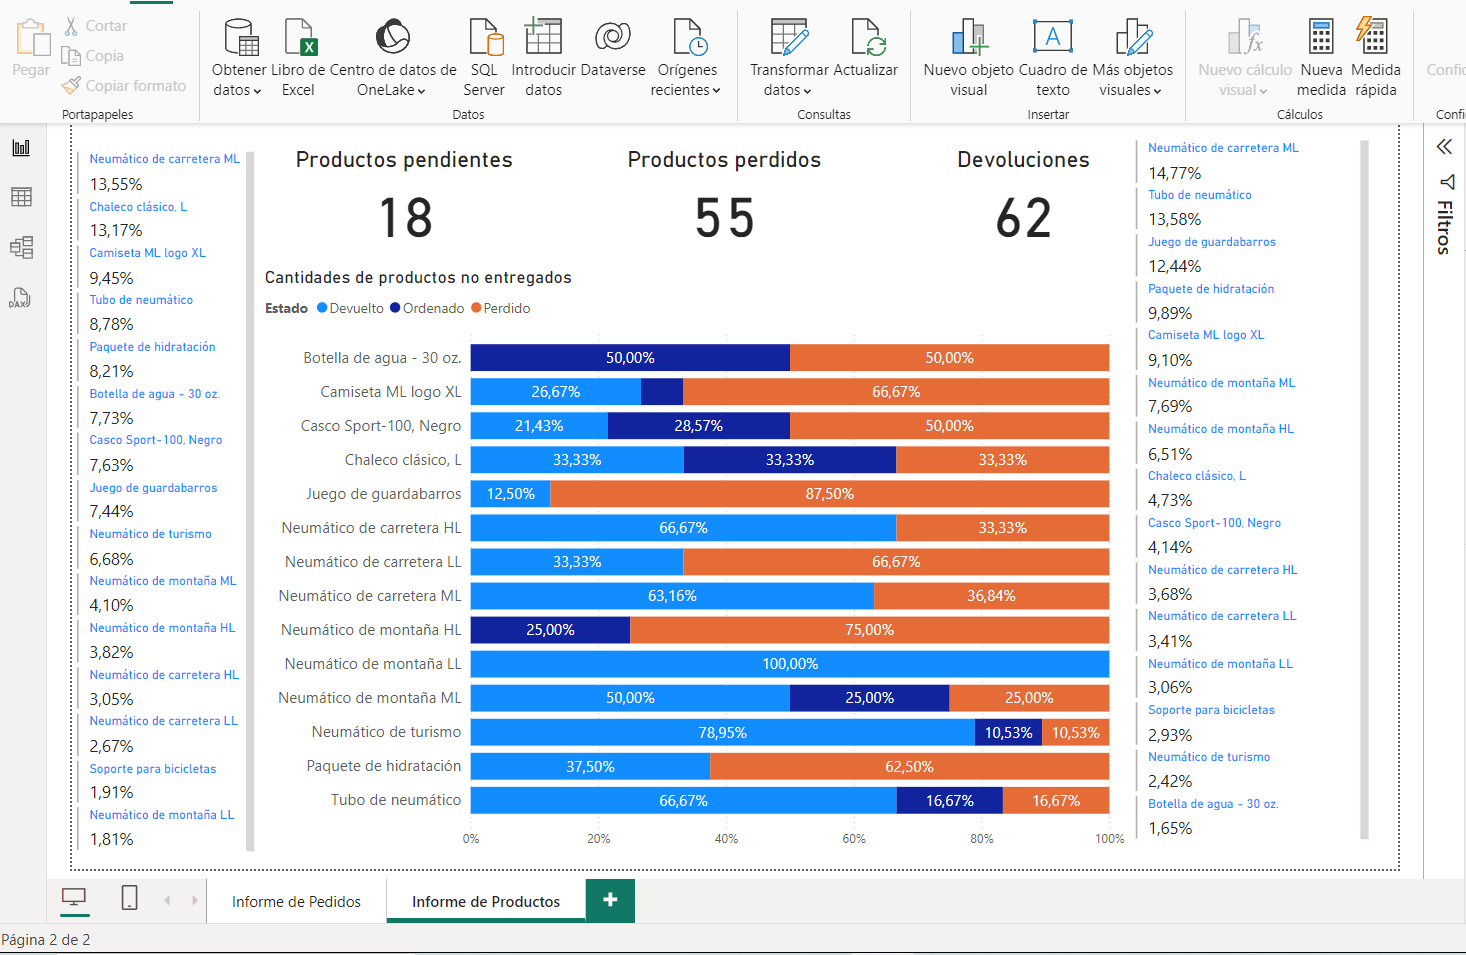

What the dashboard file says about the page in this screenshot:
{"tool":"powerbi","page":{"name":"Informe de Productos","canvas":[1280,720],"ordinal":1},"visuals":[{"type":"hundredPercentStackedBarChart","title":"Cantidades de productos no entregados","fields":{"Category":["Detalle_Ventas.Producto"],"Y":["Sum(Detalle_Ventas.Cantidad)"],"Series":["Estado_Pedidos.Estado"]},"box":[181,138.5,840.5,570.4],"z":0},{"type":"card","title":"Devoluciones","fields":{"Values":["Sum(Detalle_Ventas.Cantidad)"]},"box":[815.8,23.3,205.7,98.7],"z":1000},{"type":"card","title":"Productos perdidos","fields":{"Values":["Sum(Detalle_Ventas.Cantidad)"]},"box":[500.4,23.3,257.8,98.7],"z":2000},{"type":"card","title":"Productos pendientes","fields":{"Values":["Sum(Detalle_Ventas.Cantidad)"]},"box":[207,23.3,226.2,98.7],"z":3000},{"type":"multiRowCard","fields":{"Values":["Detalle_Ventas.Producto","Sum(Detalle_Ventas.Cantidad)"]},"box":[0,23.3,180.9,696.7],"z":4000},{"type":"multiRowCard","fields":{"Values":["Detalle_Ventas.Producto","Sum(Detalle_Ventas.Total)"]},"box":[1021.4,12.3,234.4,696.5],"z":5000}]}

Visuals, with their boxes on the page's 1280x720 design canvas (x1, y1, x2, y2). These are canvas units, not pixel positions in the 1466x955 screenshot, which may show the page scaled, cropped or inside an application window:
"Cantidades de productos no entregados" hundredPercentStackedBarChart: bbox(181, 138, 1022, 709)
"Devoluciones" card: bbox(816, 23, 1022, 122)
"Productos perdidos" card: bbox(500, 23, 758, 122)
"Productos pendientes" card: bbox(207, 23, 433, 122)
multiRowCard - Detalle_Ventas.Producto x Sum(Detalle_Ventas.Cantidad): bbox(0, 23, 181, 720)
multiRowCard - Detalle_Ventas.Producto x Sum(Detalle_Ventas.Total): bbox(1021, 12, 1256, 709)
